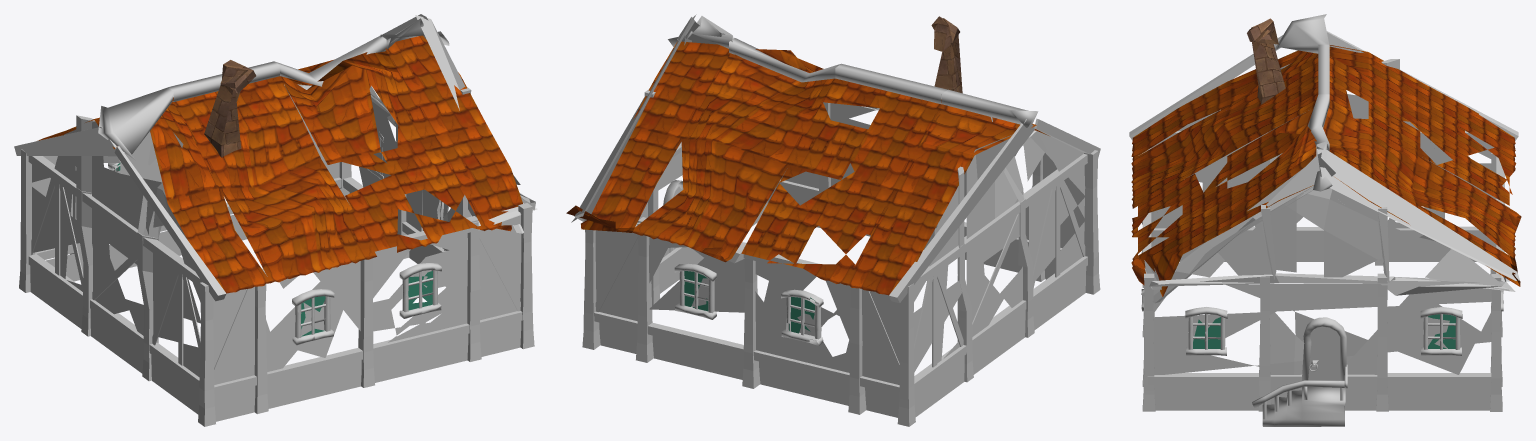
The model's file is house3_after.fbx.
3 views of the same model, side by side, from view 1: azimuth 30°, elevation 25°; view 2: azimuth 150°, elevation 25°; view 3: azimuth 270°, elevation 25° (orthographic). The views are drawn at different scales.
Parts seen in each view (by area): view 1: TopTileMidS.025; view 2: TopTileMidS.025; view 3: TopTileMidS.025.
Part boxes in pixels (<box>): TopTileMidS.025: <box>14,14,537,426</box>; TopTileMidS.025: <box>566,14,1100,426</box>; TopTileMidS.025: <box>1129,14,1521,426</box>.
Bounding box in the file's own units: 18520 × 13723 × 17361.
